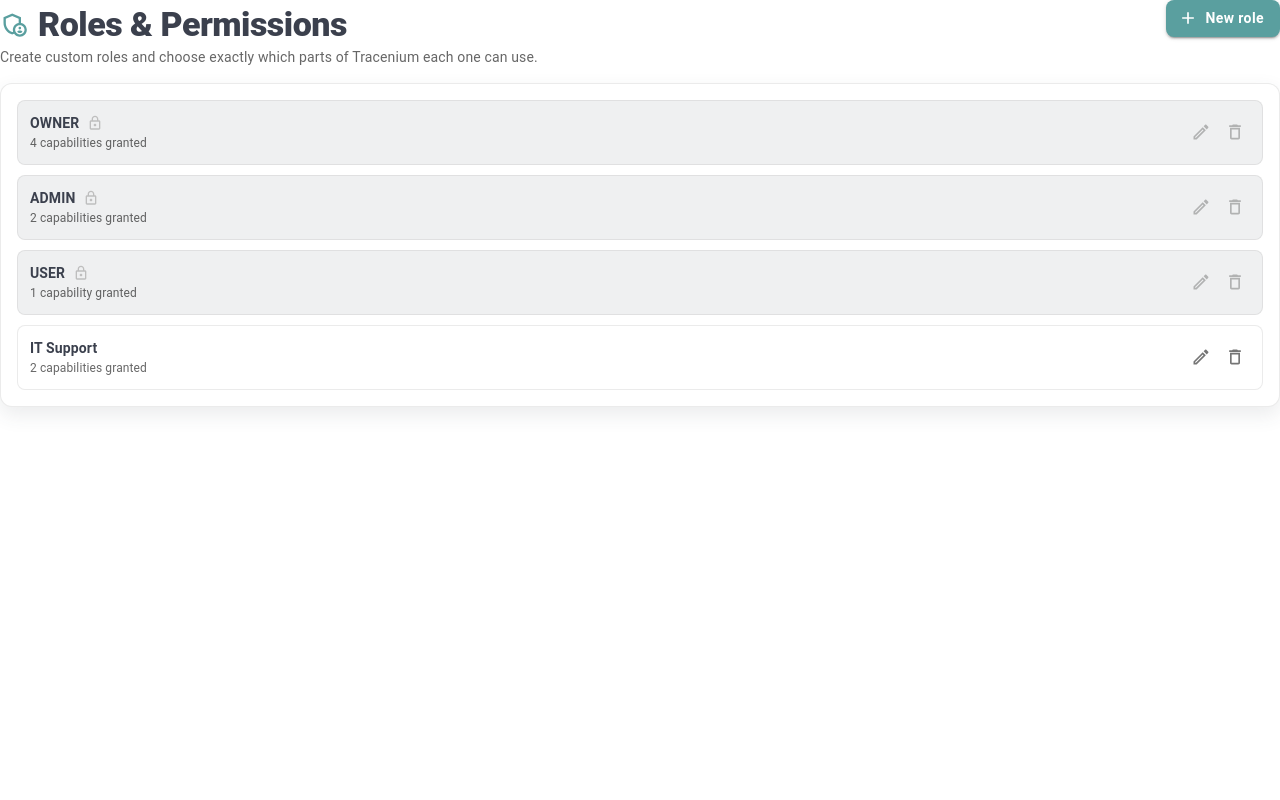
Test: RolesAdministrator — delete › deletes an unused custom role
The image size is (1280, 800).
Click the button named "Delete IT Support": (1235, 357) [1220,342,1250,372]
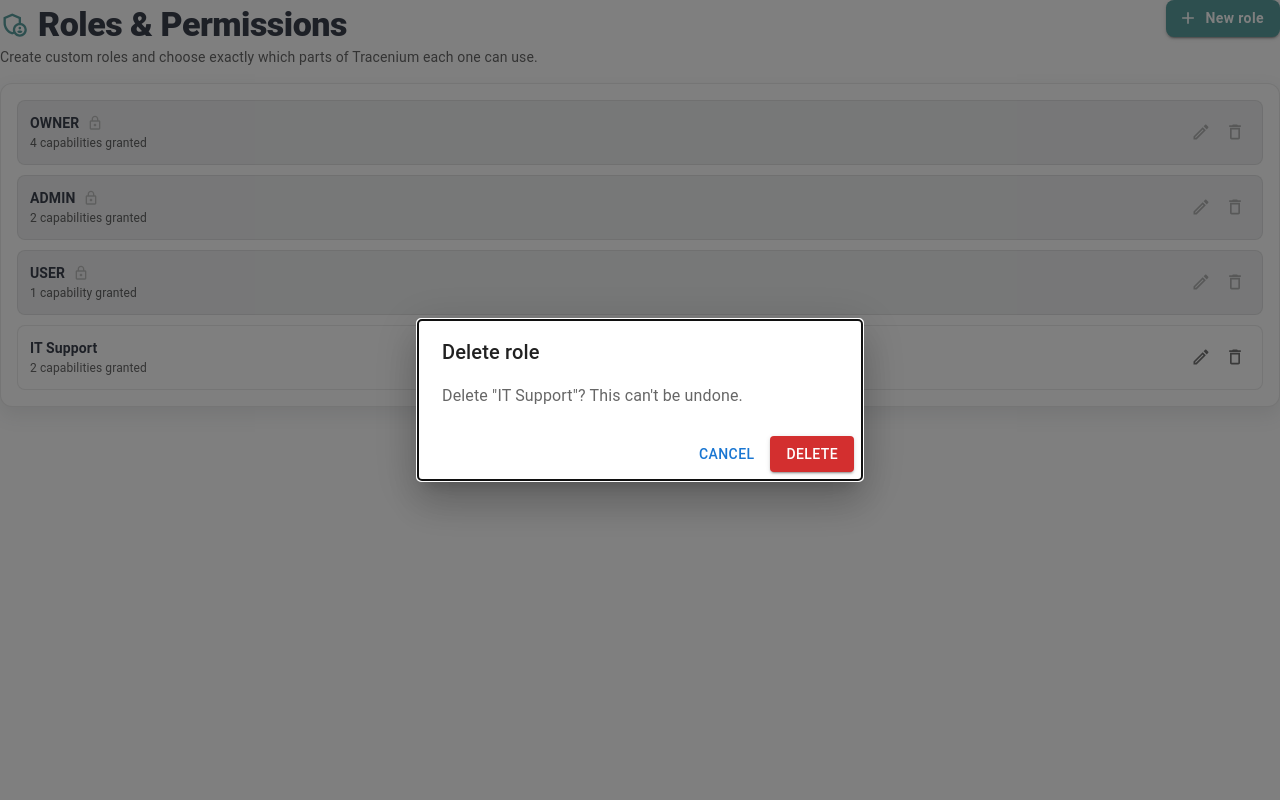
Click the button "Delete": (812, 454) [770,436,854,472]
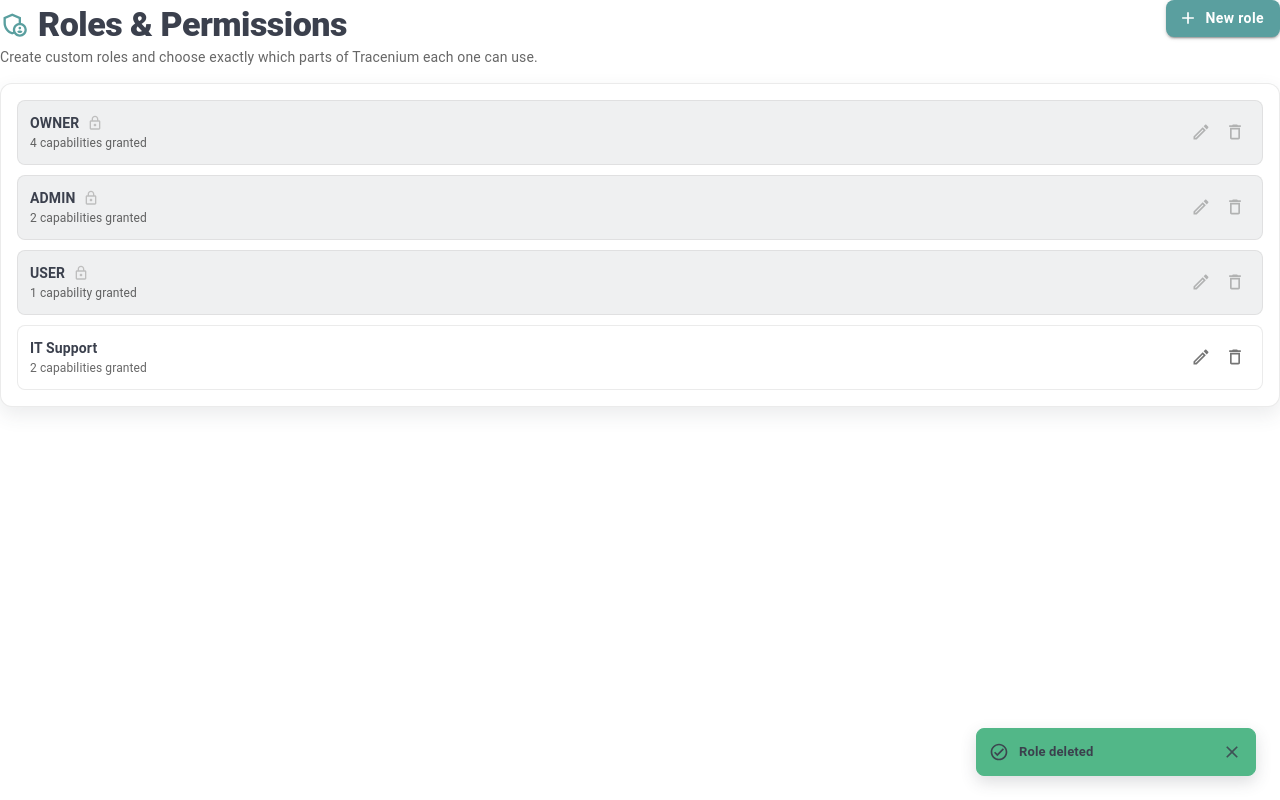
expect the text "Role deleted" is shown: met, box [1019,744,1093,759]
